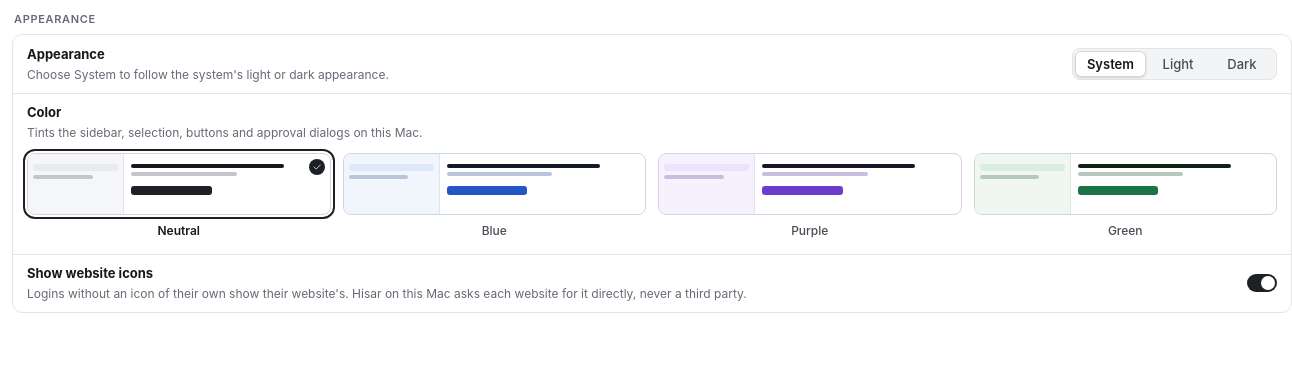
it: AppearanceSection › goes back to the theme in use when saving fails
The image size is (1292, 373).
Step 1. Click the radio button with test id "theme-color-green" → {"x": 1125, "y": 197}, box [974,153,1277,240]
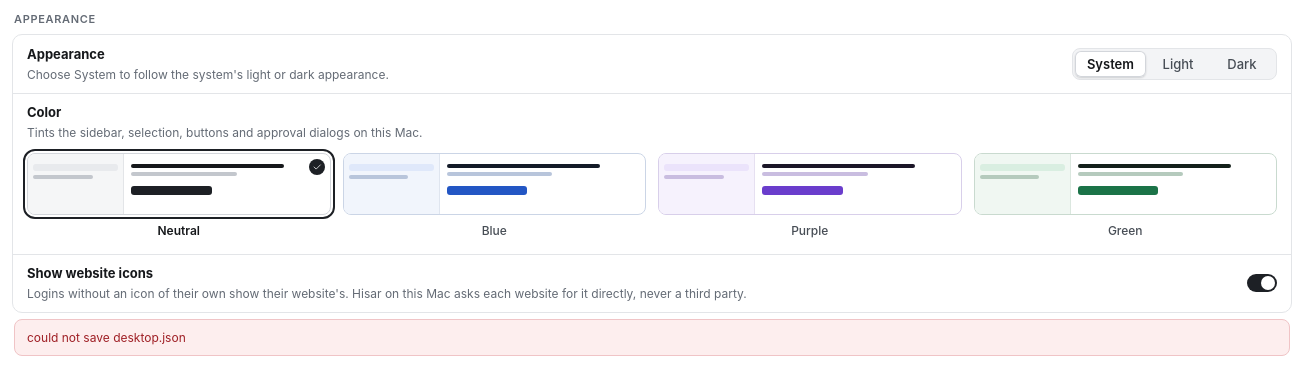
Check: the message with test id "theme-error" reads "could not save desktop.json", box [27,330,186,345]
